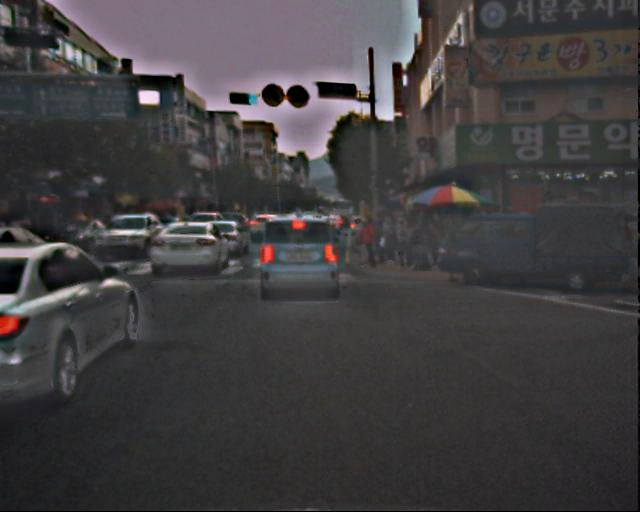person: (360, 211, 446, 267)
